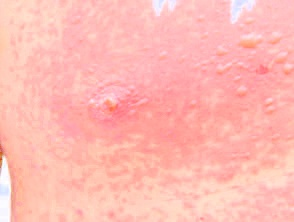SJS-TEN: (34, 0, 294, 192)
